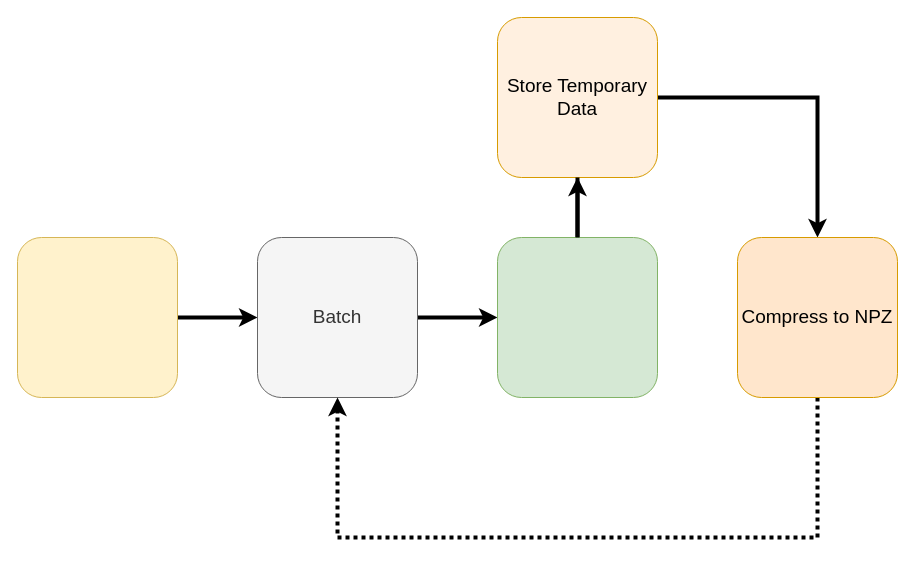
The diagram is 915 pixels wide and 565 high, and some of its shapes have lost their labels. Here are the shapes that lost their labels. From the top down, the centre of each, then its label:
At pixel 97 317: "Genome Sequence Data".
At pixel 577 317: "Loop Genome Sequence Data".
